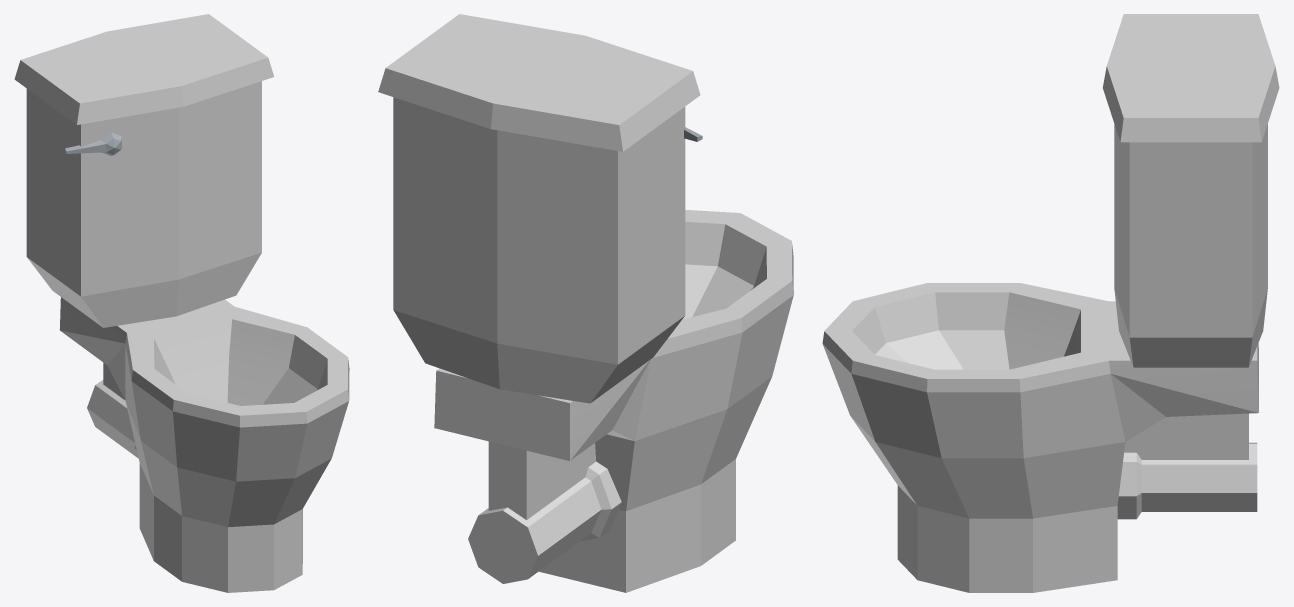
Rendered from SM_Prop_Toilet_01_689.obj.
3 renders of one model, left to right at view 1: azimuth 30°, elevation 25°; view 2: azimuth 150°, elevation 25°; view 3: azimuth 270°, elevation 25°, orthographic. The views are drawn at different scales.
Parts seen in each view (by area): view 1: SM_Prop_Toilet_01_0; view 2: SM_Prop_Toilet_01_0; view 3: SM_Prop_Toilet_01_0.
Boxes of the visible parts, <box> form: SM_Prop_Toilet_01_0: <box>14,14,349,592</box>; SM_Prop_Toilet_01_0: <box>378,14,793,592</box>; SM_Prop_Toilet_01_0: <box>822,14,1279,592</box>.
Bounding box in the file's own units: 0.5025 × 1.03 × 0.8641.
1 material, 1 textured.
